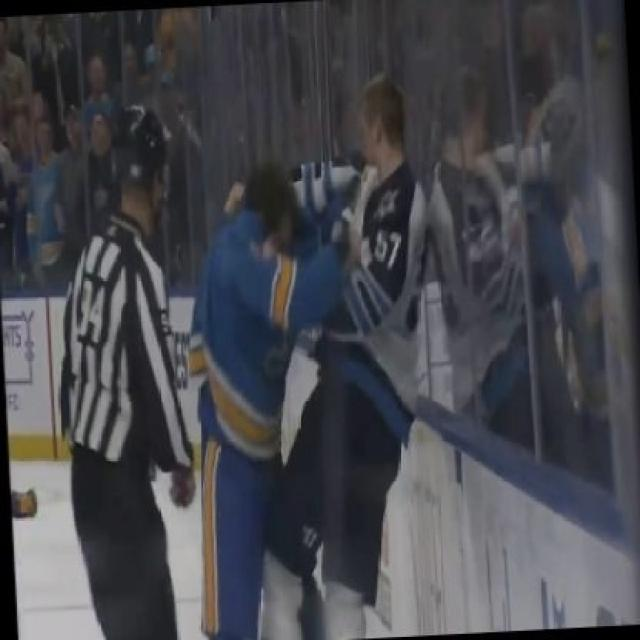fight: (194, 66, 434, 640)
non-fight: (41, 96, 196, 639)
